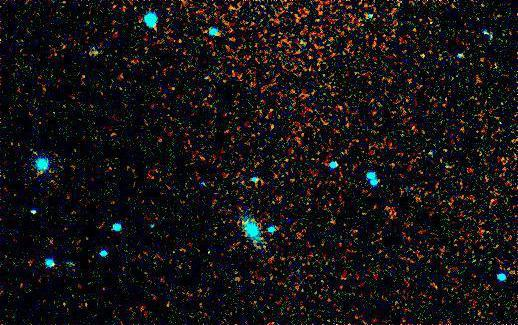star: (253, 123, 283, 153)
